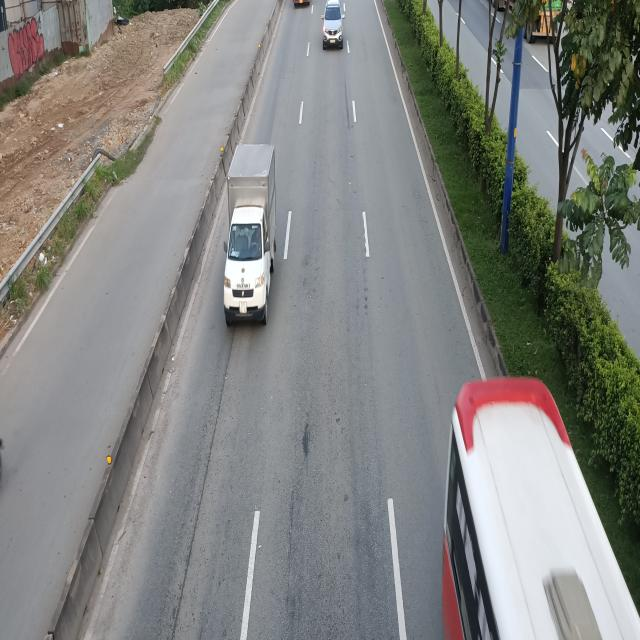car: (320, 1, 344, 50)
coach: (440, 374, 640, 640)
truck: (220, 142, 277, 327)
